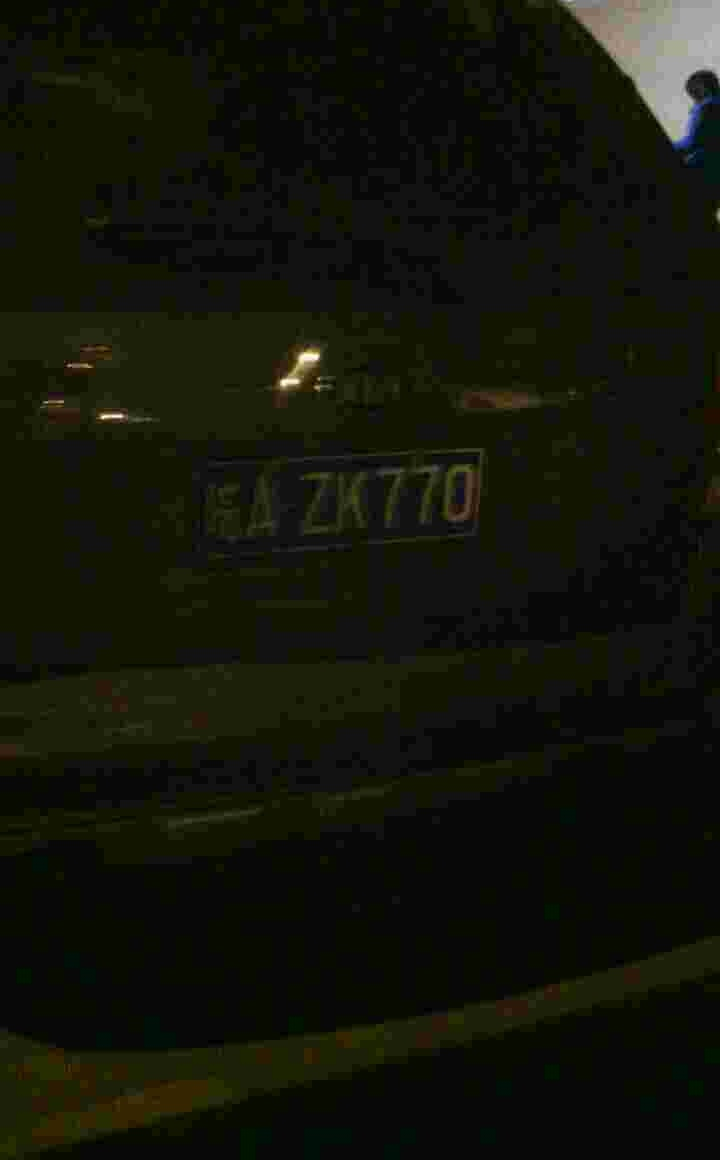license_plate: (232, 462, 476, 530)
